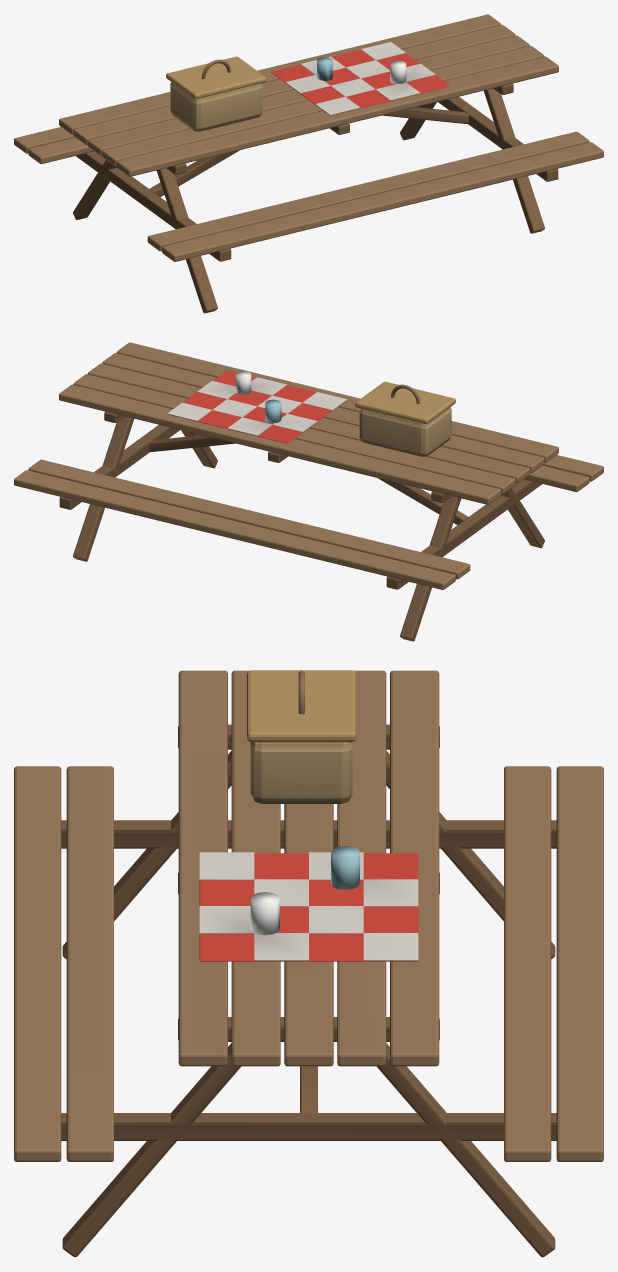
File: picnicTable.glb
3 renders of one model, top to bottom at view 1: azimuth 30°, elevation 25°; view 2: azimuth 150°, elevation 25°; view 3: azimuth 270°, elevation 25°, orthographic. The views are drawn at different scales.
Parts seen in each view (by area): view 1: picnicTable; view 2: picnicTable; view 3: picnicTable.
Boxes of the visible parts, bbox=[...] form: picnicTable: bbox=[14, 14, 603, 313]; picnicTable: bbox=[14, 342, 603, 641]; picnicTable: bbox=[14, 670, 603, 1257].
Bounding box in the file's own units: 2.5 × 1.06 × 1.62.
